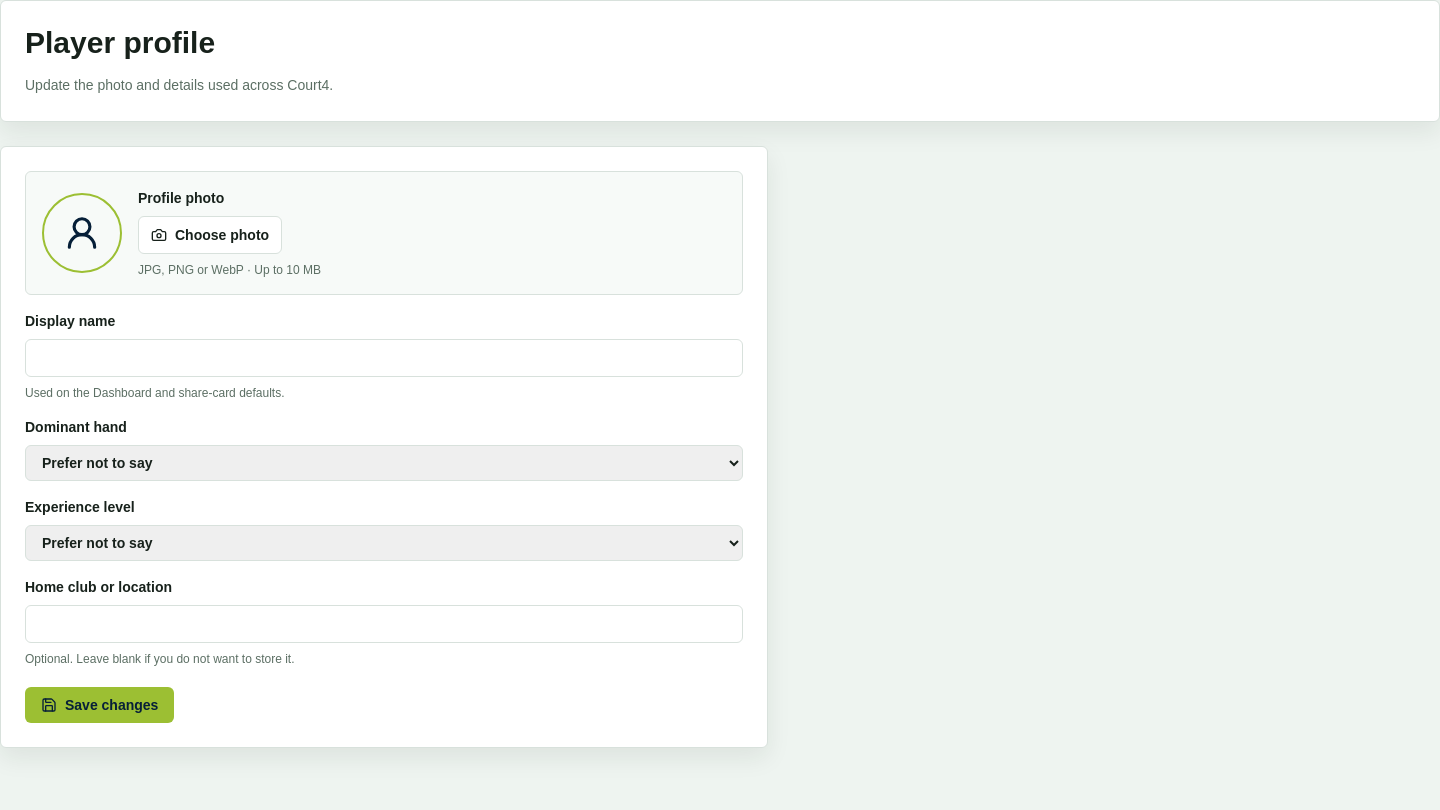
Scenario: player profile page › saves trimmed and sanitized browser-local profile details
Type "  <Ava>   Smith  " into the field labelled "Display name Used on the Dashboard and share-card defaults.".
click(384, 358); type("  <Ava>   Smith  ")  # box [25,339,743,377]
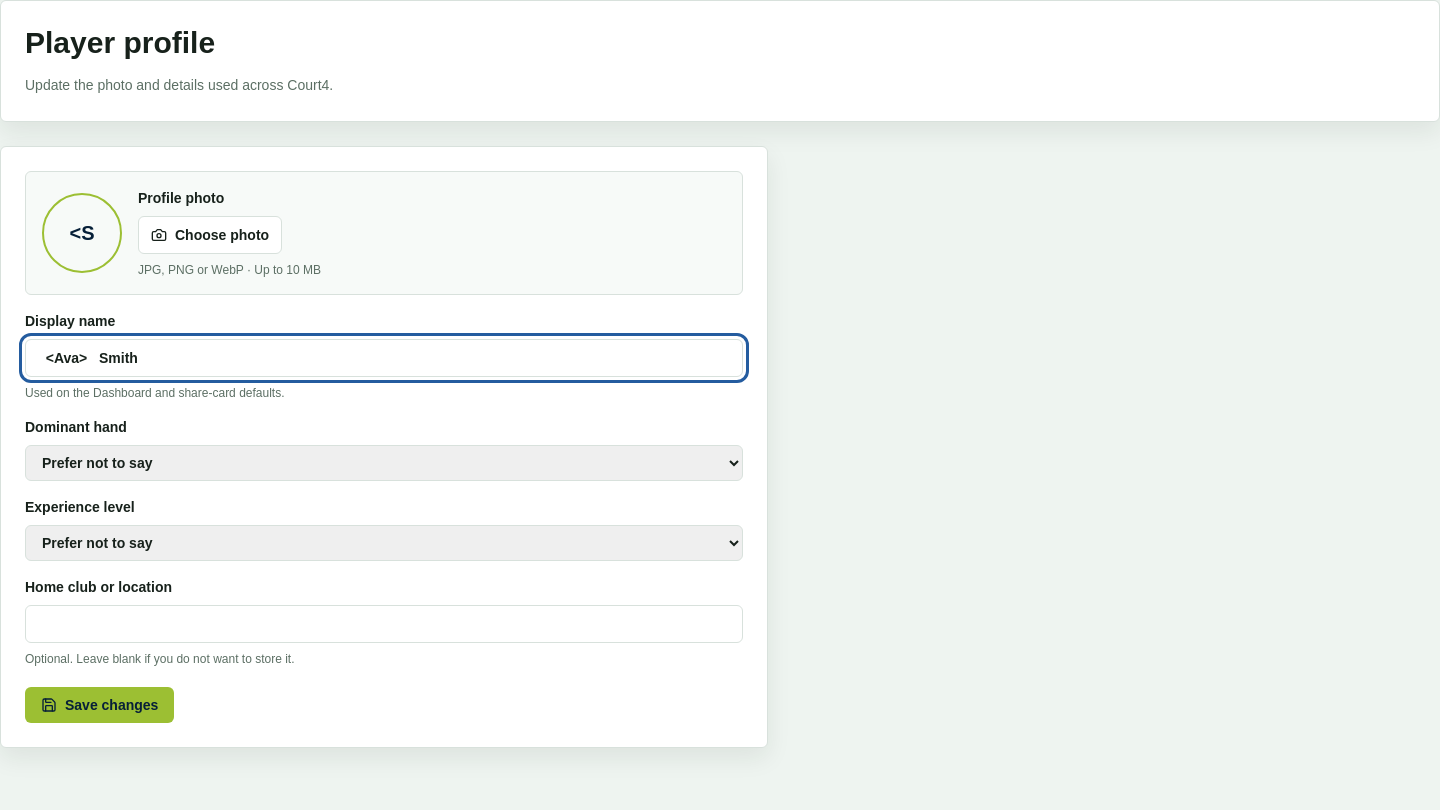
Select "Left" in the dropdown labelled "Dominant hand" at (384, 463), box [25,445,743,481]
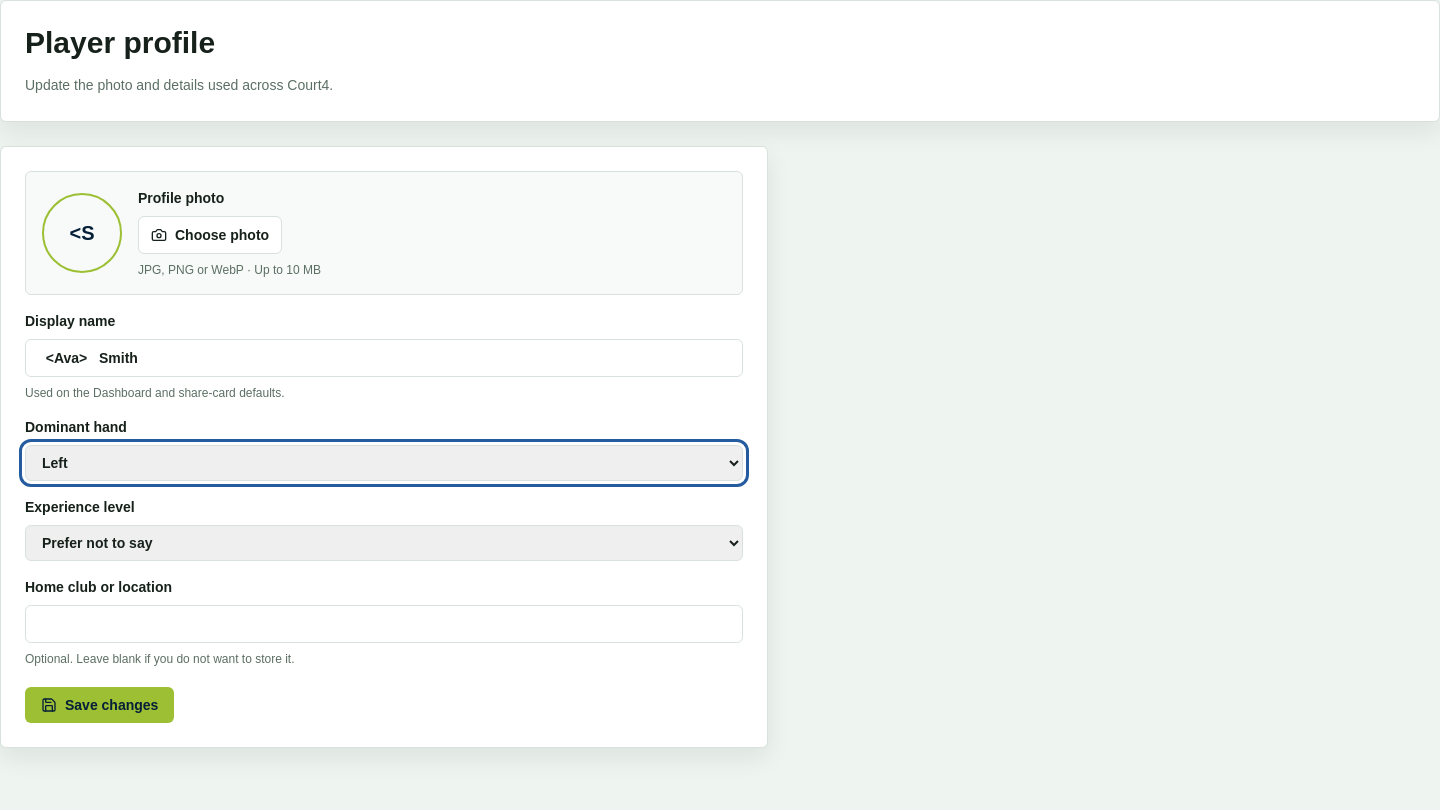
Select "Advanced" in the dropdown labelled "Experience level" at (384, 543), box [25,525,743,561]
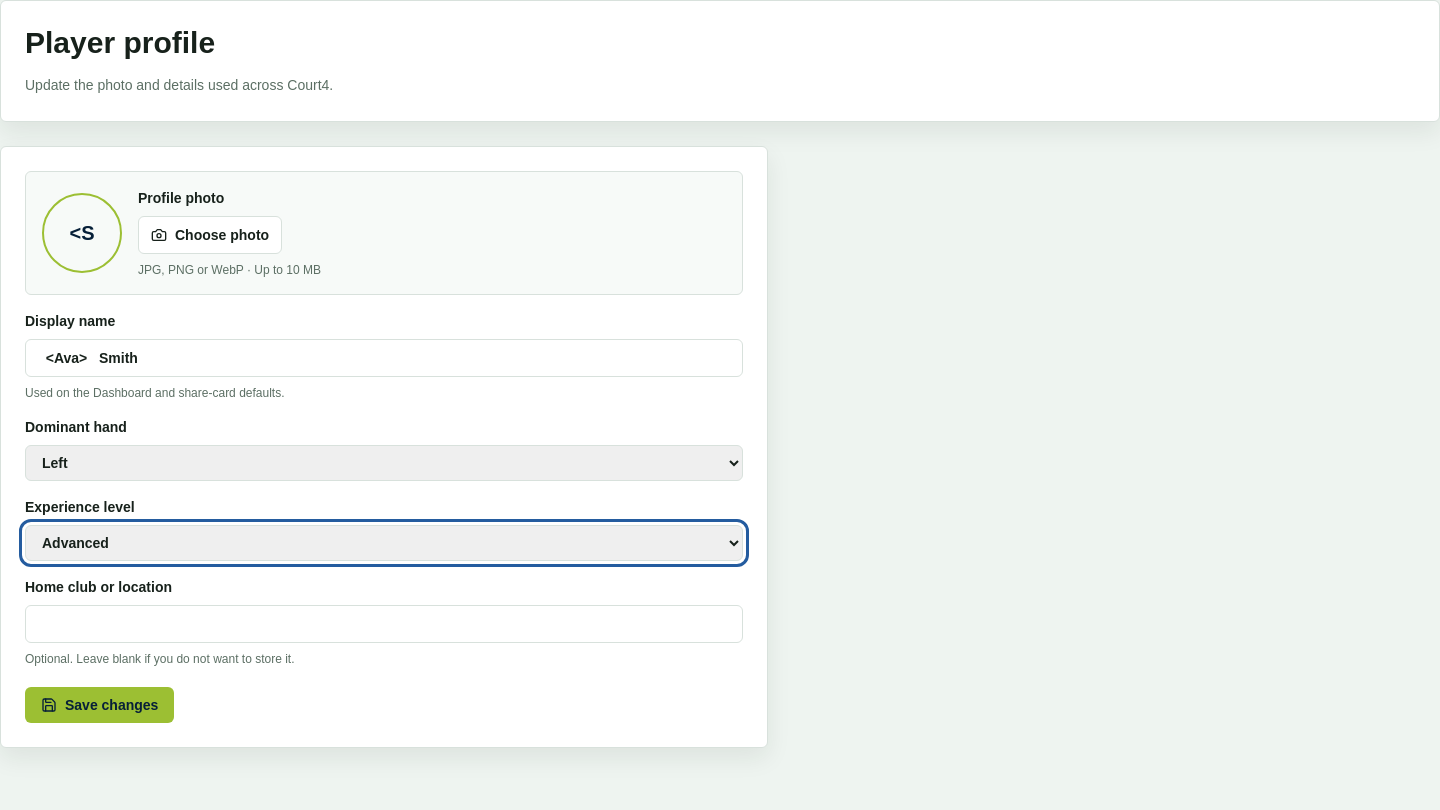
Type "  <Main>   Club  " into the field labelled "Home club or location".
click(384, 624); type("  <Main>   Club  ")  # box [25,605,743,643]
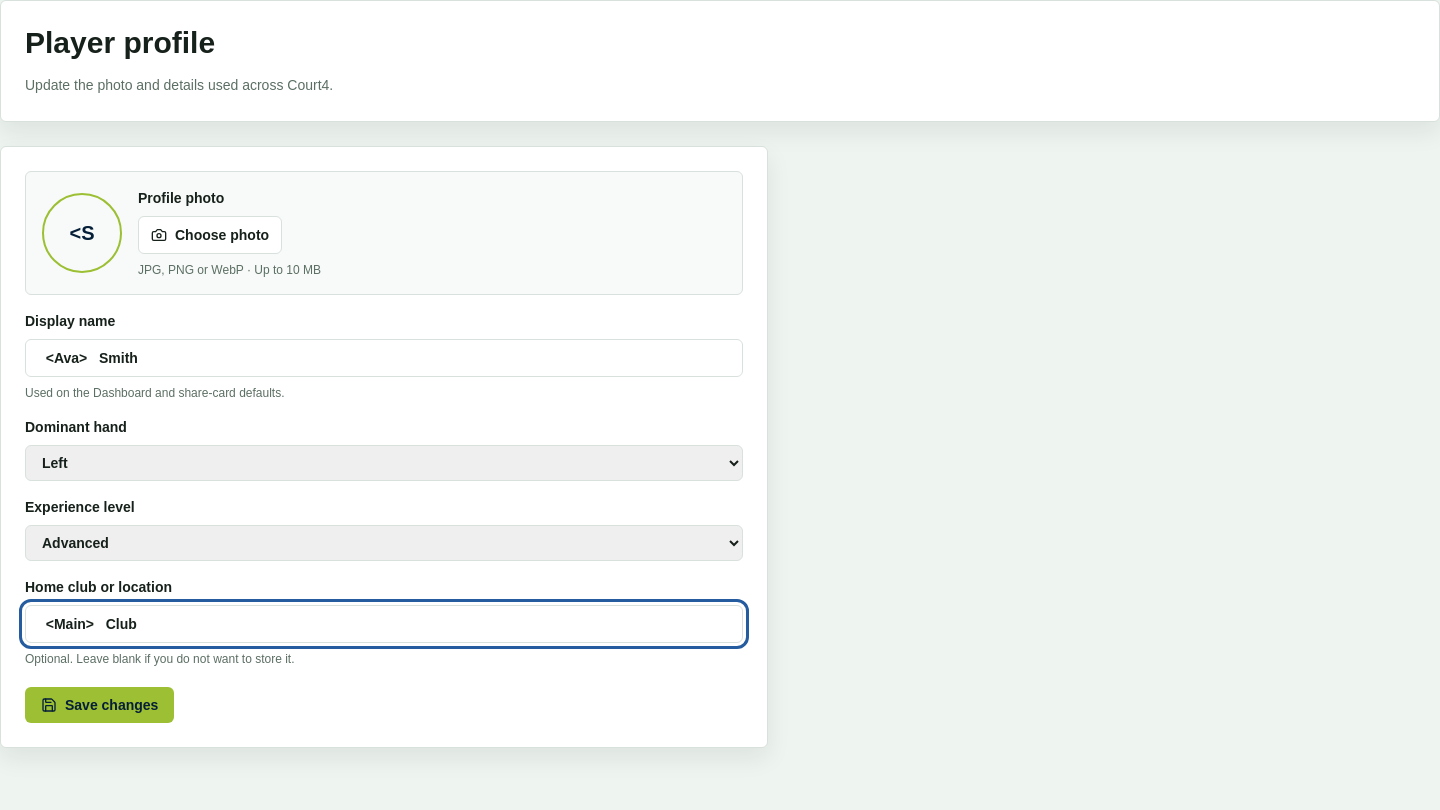
Click the button "Save changes".
click(100, 705)  # box [25,687,174,723]
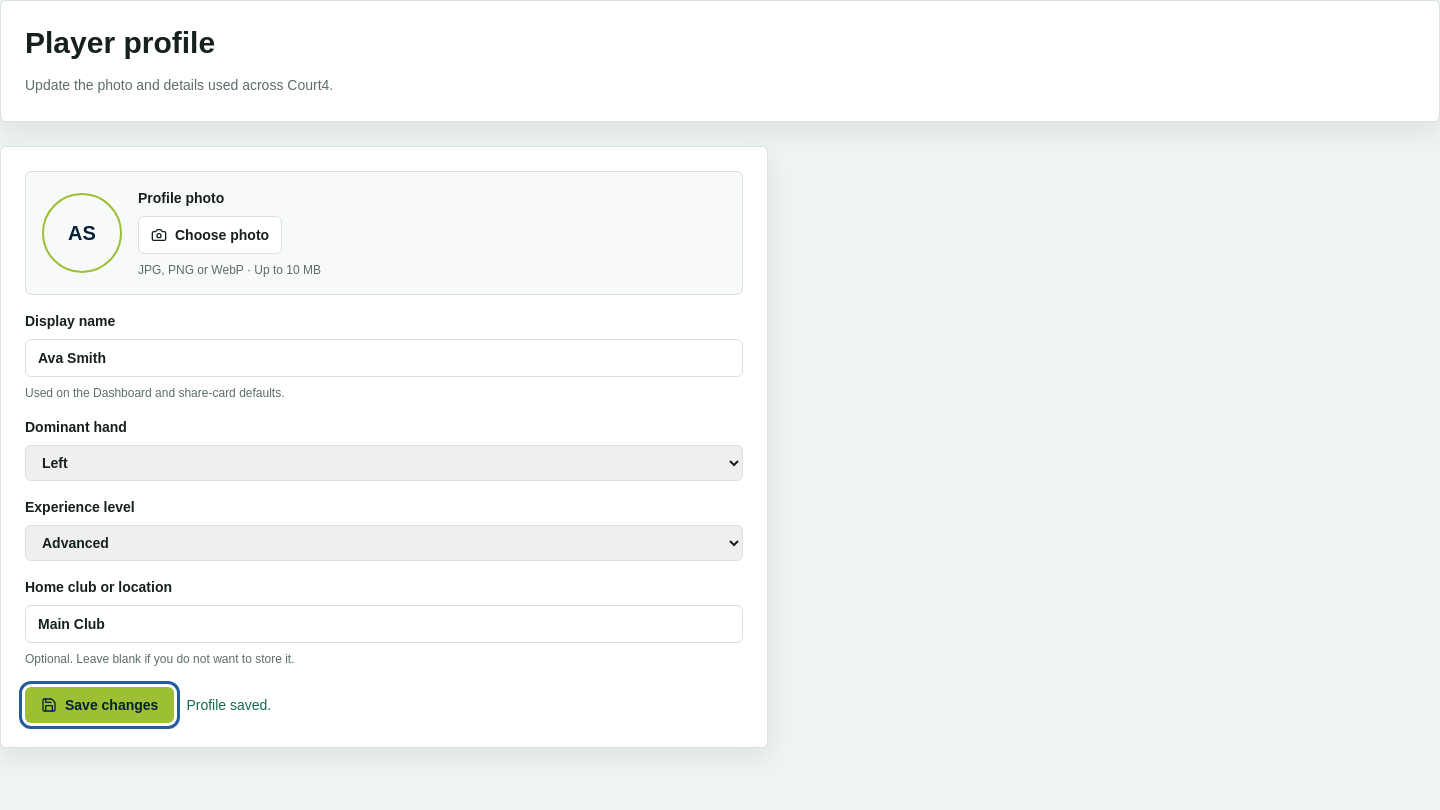
Expected: the text "Profile saved." is shown, [186,695,271,715]
Expected: the field labelled "Display name Used on the Dashboard and share-card defaults." holds "Ava Smith", [25,339,743,377]
Expected: the picture named "Ava Smith profile photo" is shown, [42,193,122,273]
